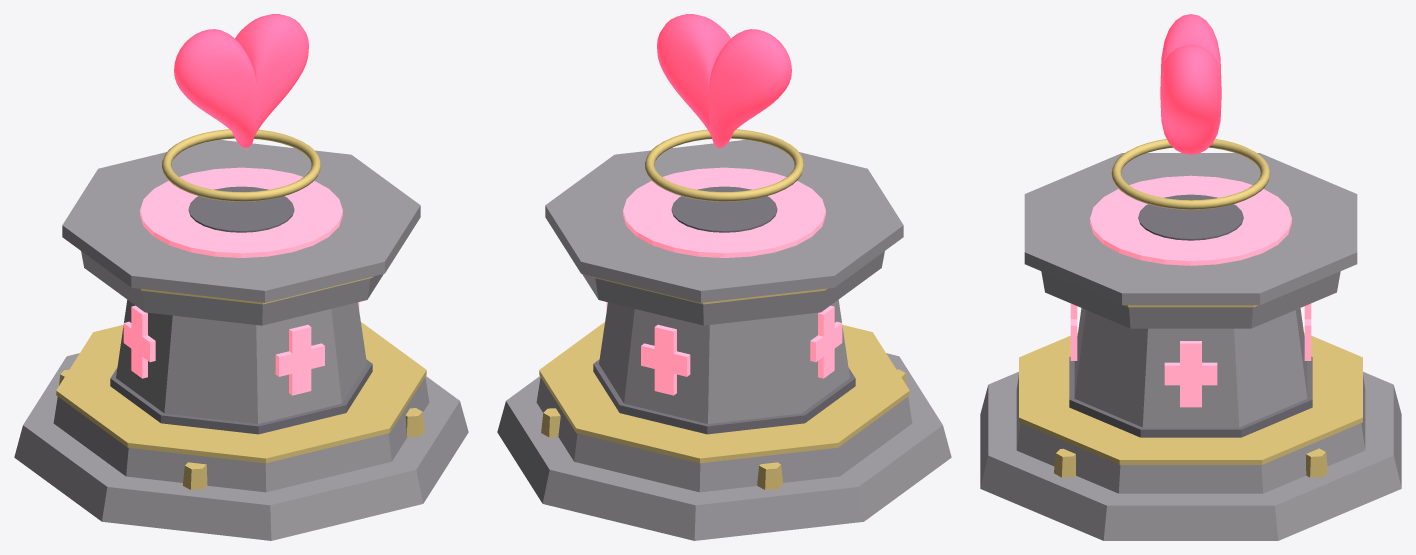
Rendered from pedestal_health.glb.
The picture shows the model from 3 angles, left to right: view 1: azimuth 30°, elevation 25°; view 2: azimuth 150°, elevation 25°; view 3: azimuth 270°, elevation 25°; orthographic projection.
Parts seen in each view (by area): view 1: Pedestal, Emblem; view 2: Pedestal, Emblem; view 3: Pedestal, Emblem.
Part boxes in pixels (x1,y1,x2,y2): Pedestal: (14, 140, 468, 540); Emblem: (162, 14, 320, 201); Pedestal: (497, 140, 951, 540); Emblem: (645, 14, 803, 201); Pedestal: (980, 153, 1401, 540); Emblem: (1111, 14, 1270, 209).
Bounding box in the file's own units: 0.9608 × 1.05 × 0.9608.
